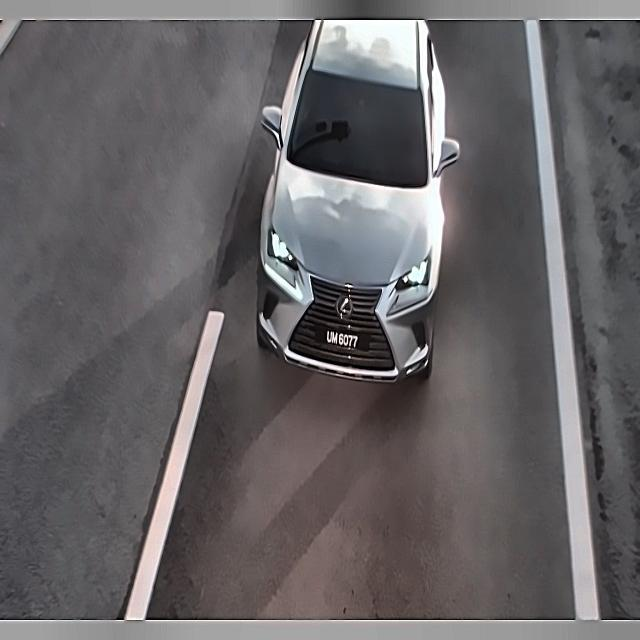car: (317, 315, 363, 358)
